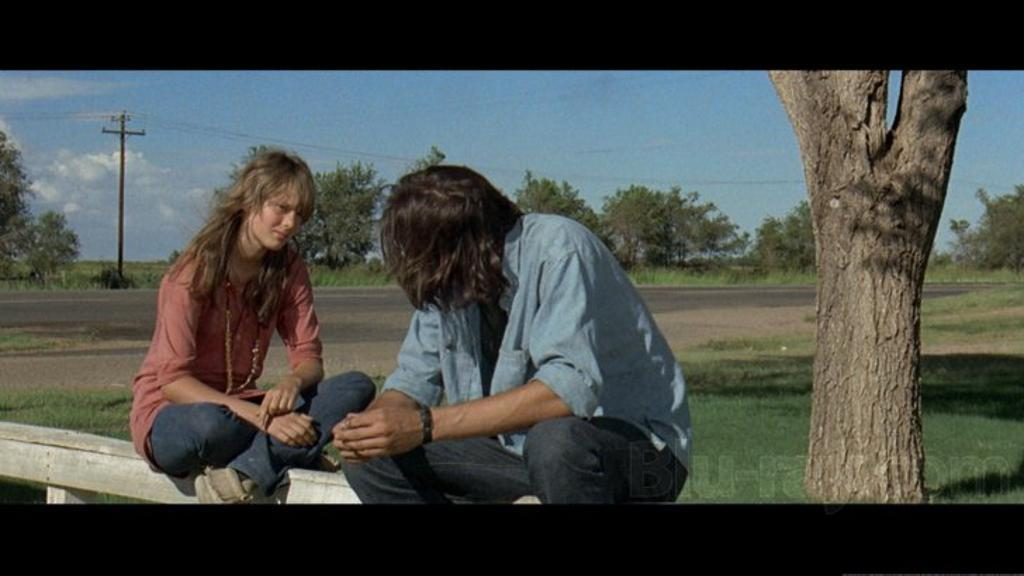face: (257, 179, 311, 261)
